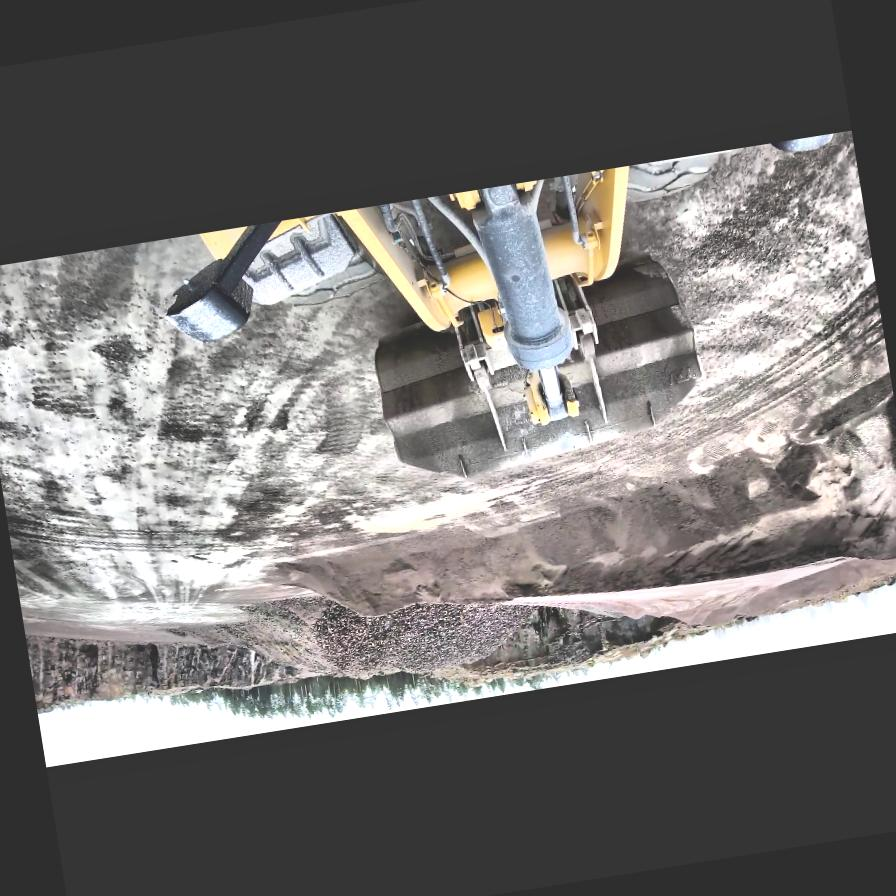anchor: (518, 361, 580, 428)
pile of gravel: (265, 420, 896, 653), (208, 567, 480, 706), (700, 545, 896, 627)
